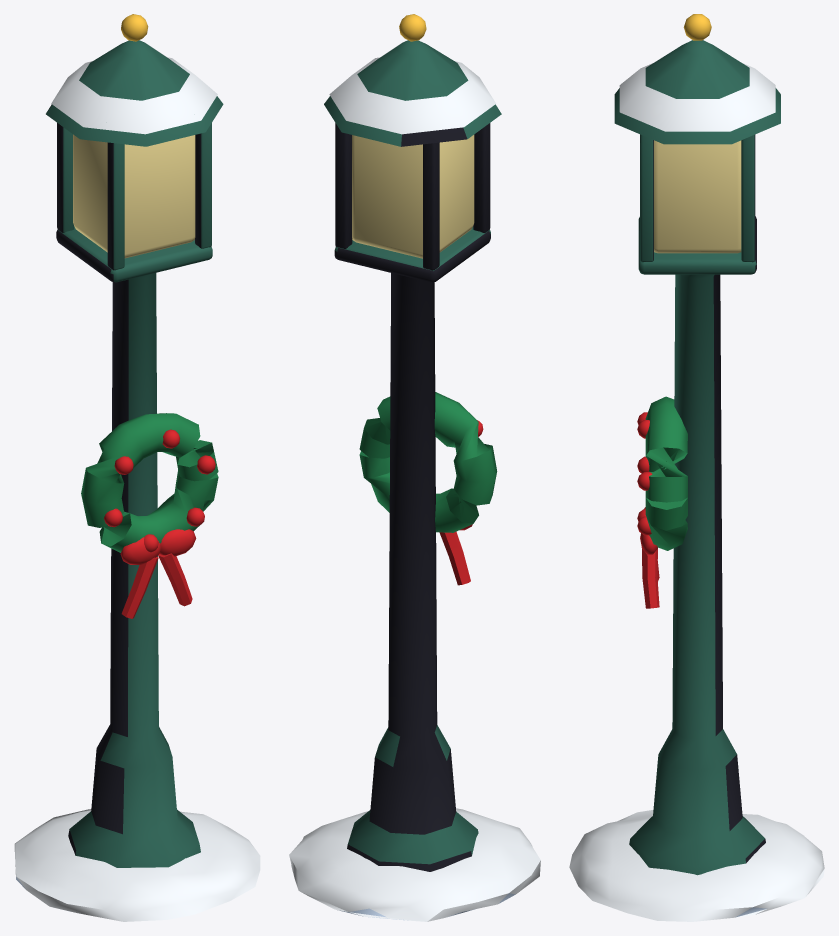
The model's file is XmasLamp.fbx.
3 renders of one model, left to right at view 1: azimuth 30°, elevation 25°; view 2: azimuth 150°, elevation 25°; view 3: azimuth 270°, elevation 25°, orthographic.
Parts seen in each view (by area): view 1: XmasLamp; view 2: XmasLamp; view 3: XmasLamp.
Boxes of the visible parts, left/top/right/bottom form: XmasLamp: left=14, top=14, right=260, bottom=921; XmasLamp: left=289, top=14, right=540, bottom=921; XmasLamp: left=569, top=14, right=824, bottom=921.
Size of the model in its own units: 0.9014 by 3.35 by 0.9071.
Materials: 2 (2 with a texture image).
